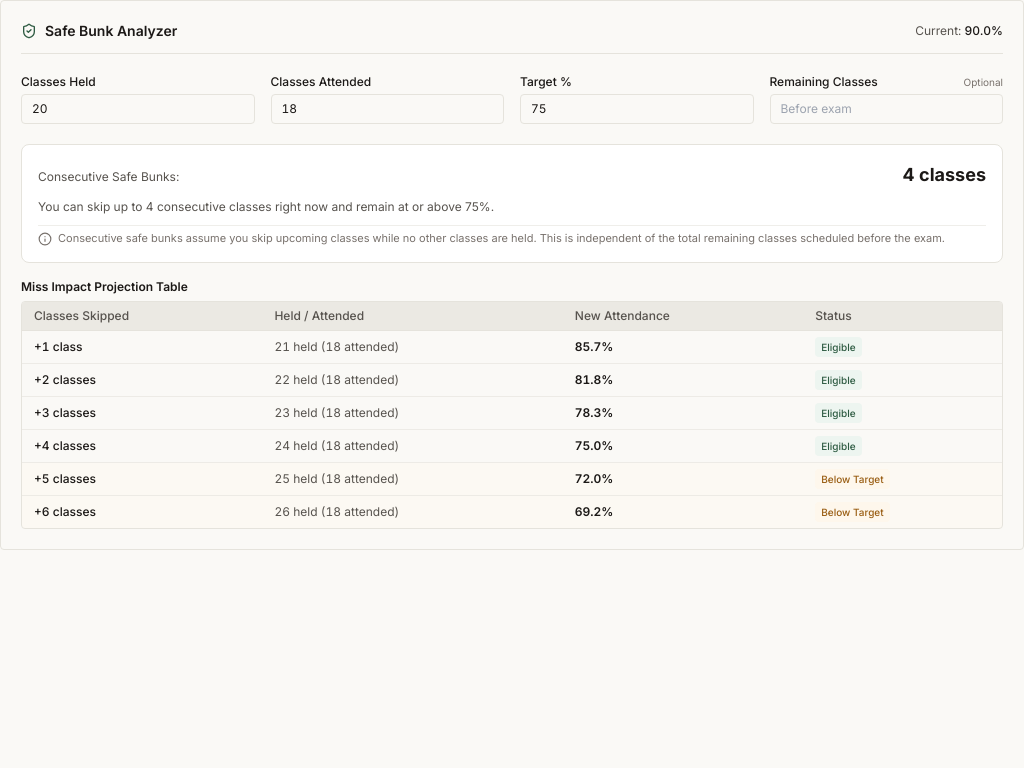
it: SafeBunkCalculator Component › handles remaining classes for exam preparation safe bunks
The image size is (1024, 768).
Type "10" into the number field labelled "Remaining Classes" at (886, 109), box [770,94,1003,124]
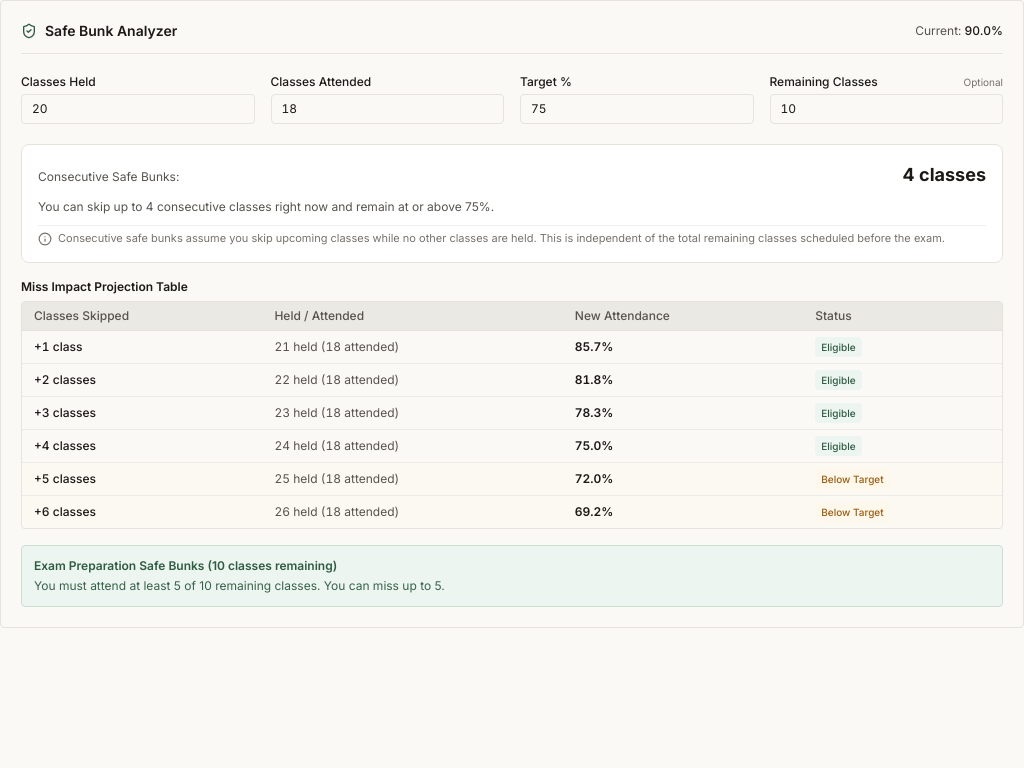
Result: the text "Exam Preparation Safe Bunks (10 classes remaining)" is shown at [34,558,337,573]
